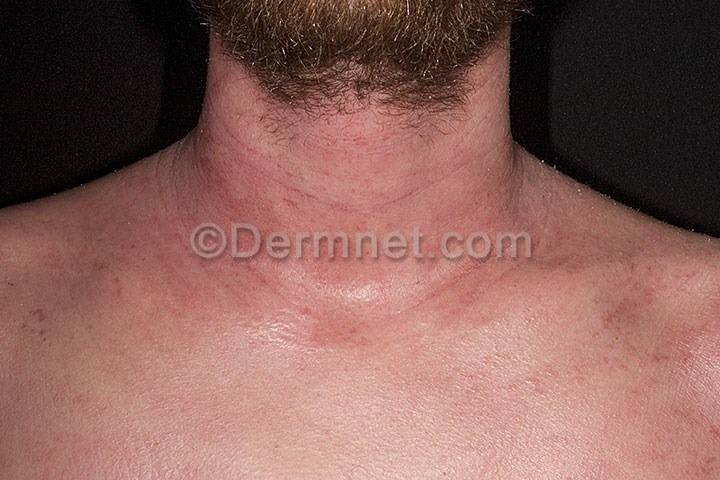Eczema: (196, 41, 524, 354), (548, 178, 715, 407), (24, 165, 194, 350)
